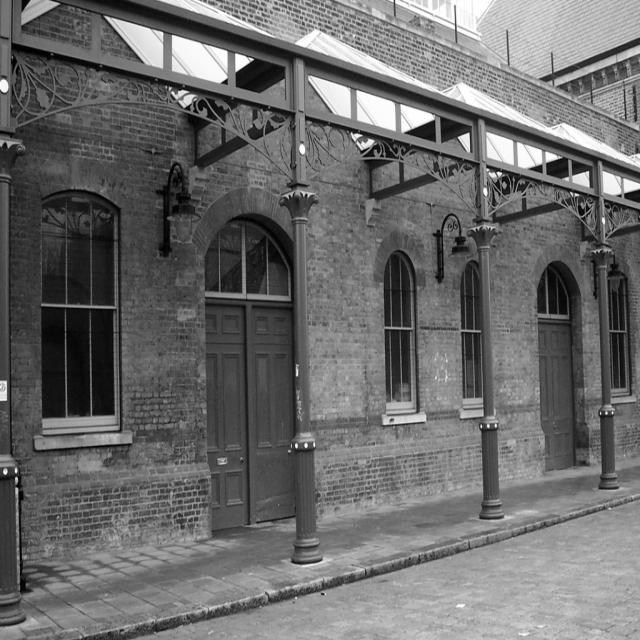doorhandle: (202, 309, 245, 520), (254, 316, 300, 506), (538, 330, 571, 466)
